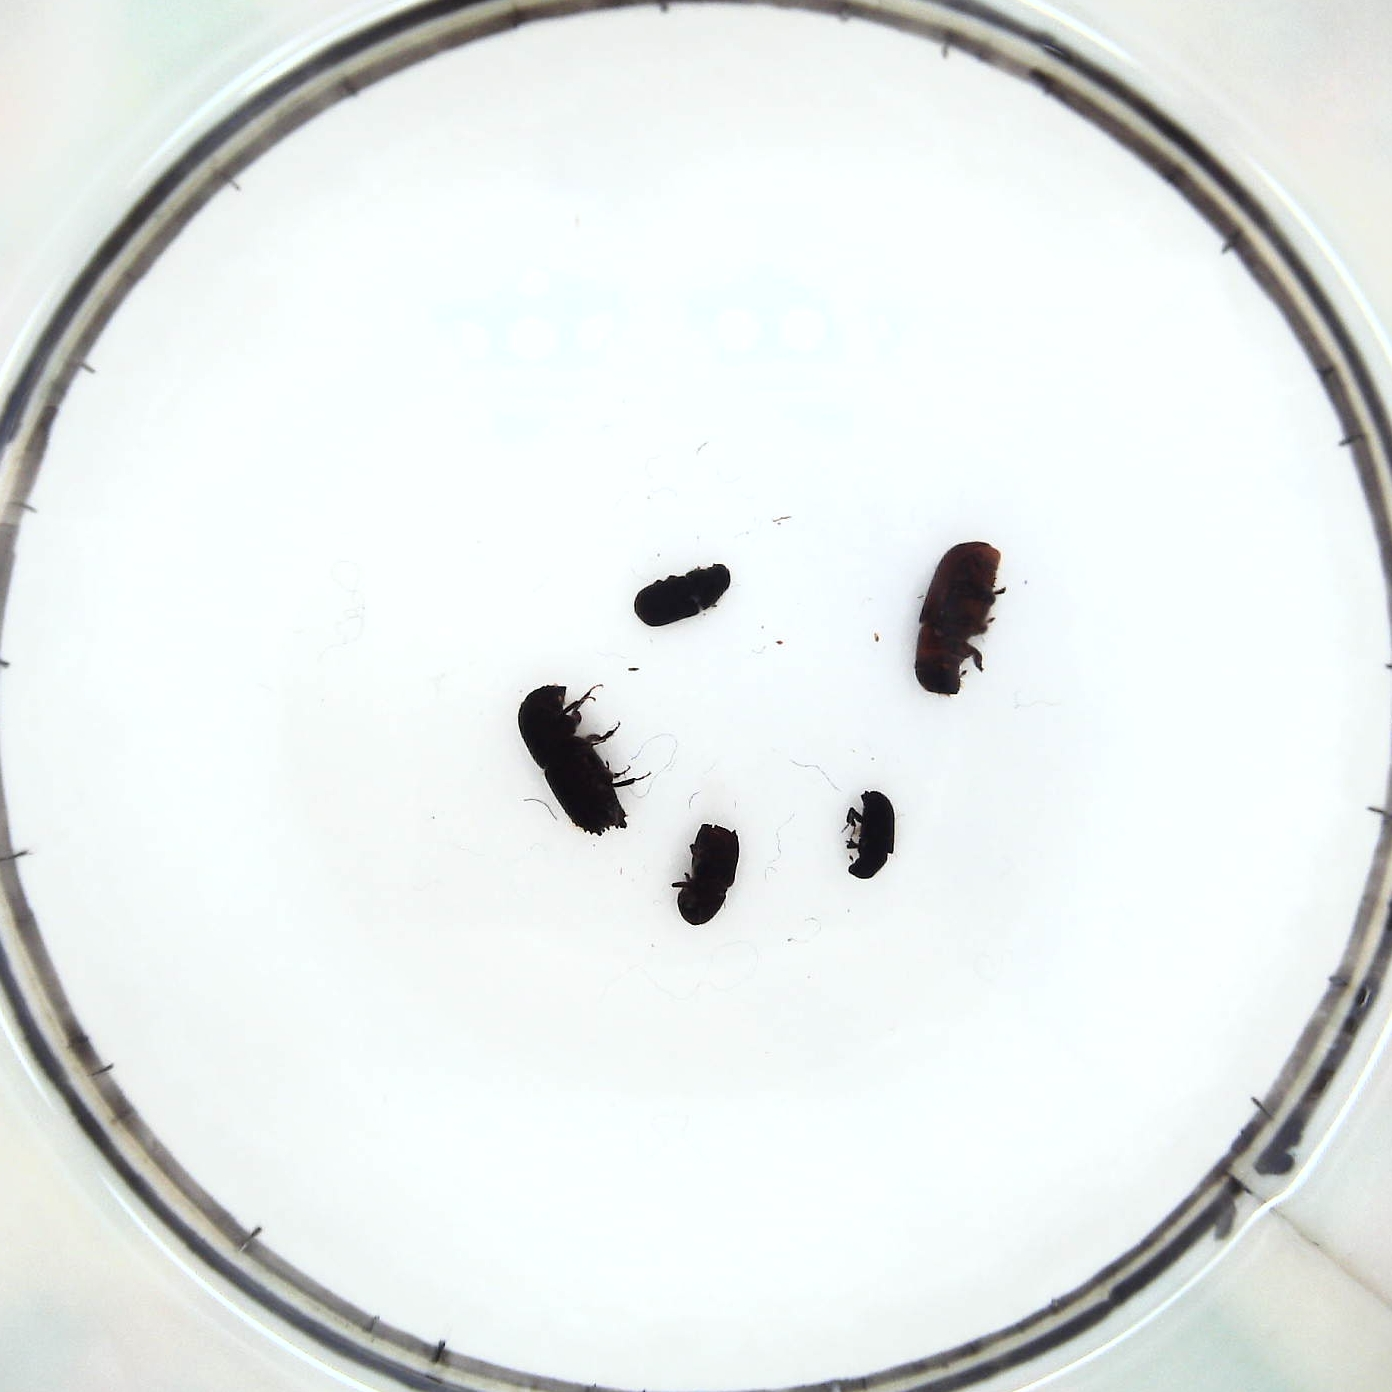Boerner: (518, 683, 630, 836)
Leconte: (911, 538, 1003, 699)
Linnaeus: (678, 820, 744, 925)
armandi: (634, 565, 732, 626)
coleoptera: (844, 783, 899, 881)
